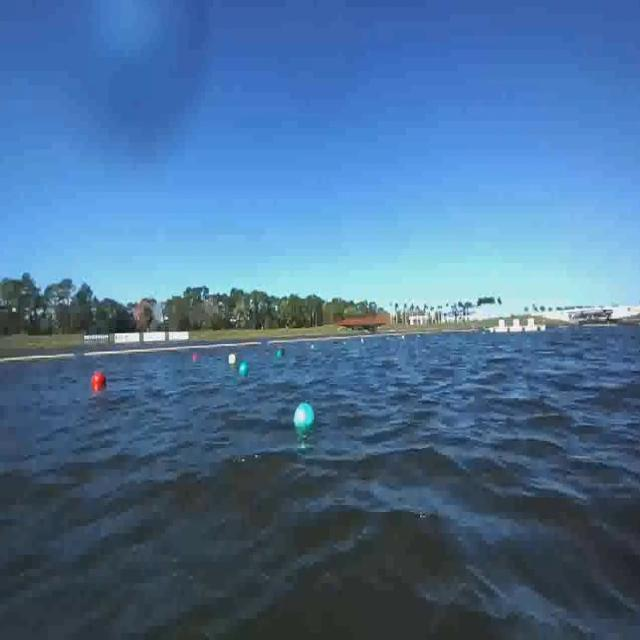green-buoy: (293, 403, 314, 432), (239, 360, 250, 377)
red-buoy: (91, 371, 105, 388)
yellow-buoy: (227, 353, 236, 366)
